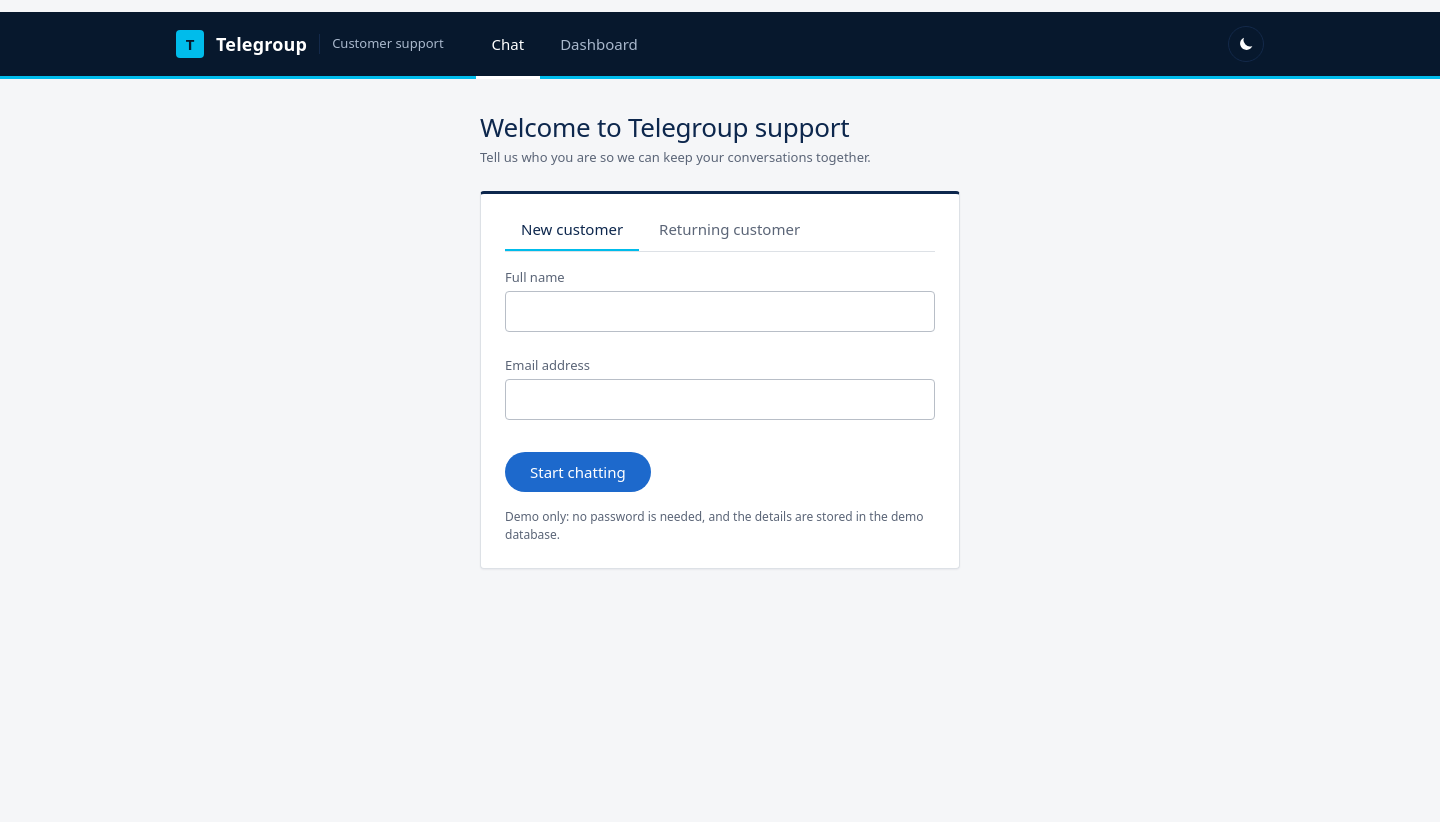
App shell › switches to the dashboard
Click the button "Dashboard".
click(599, 46)  # box [544,12,654,79]
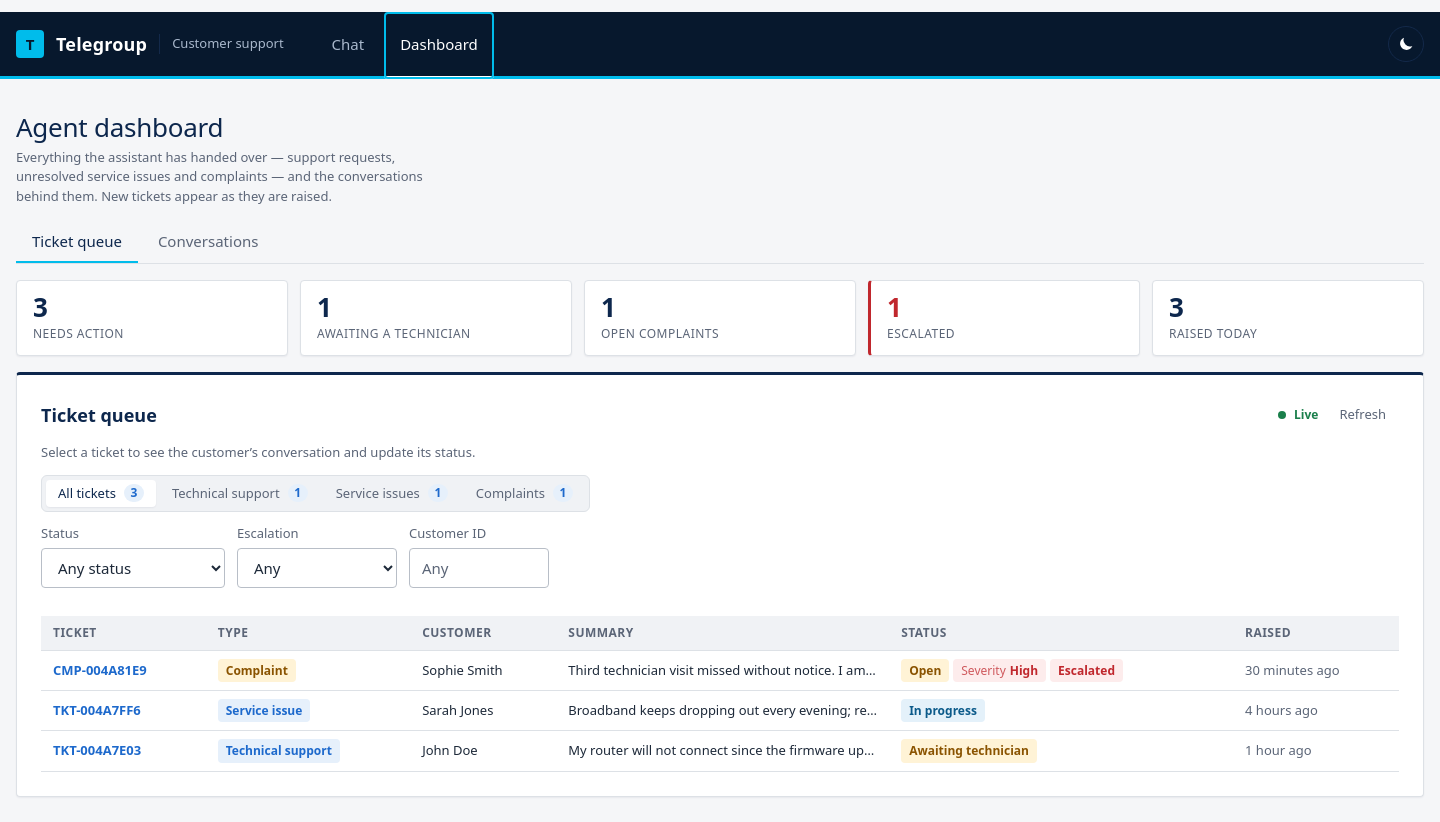
Now the heading "Agent dashboard" is shown, box [16,109,223,145]
